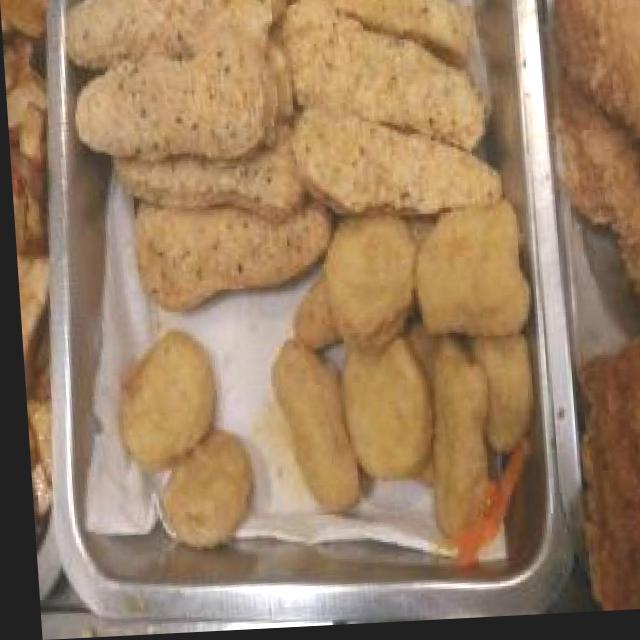chicken_nuggets: (263, 219, 535, 568), (108, 326, 255, 559)
